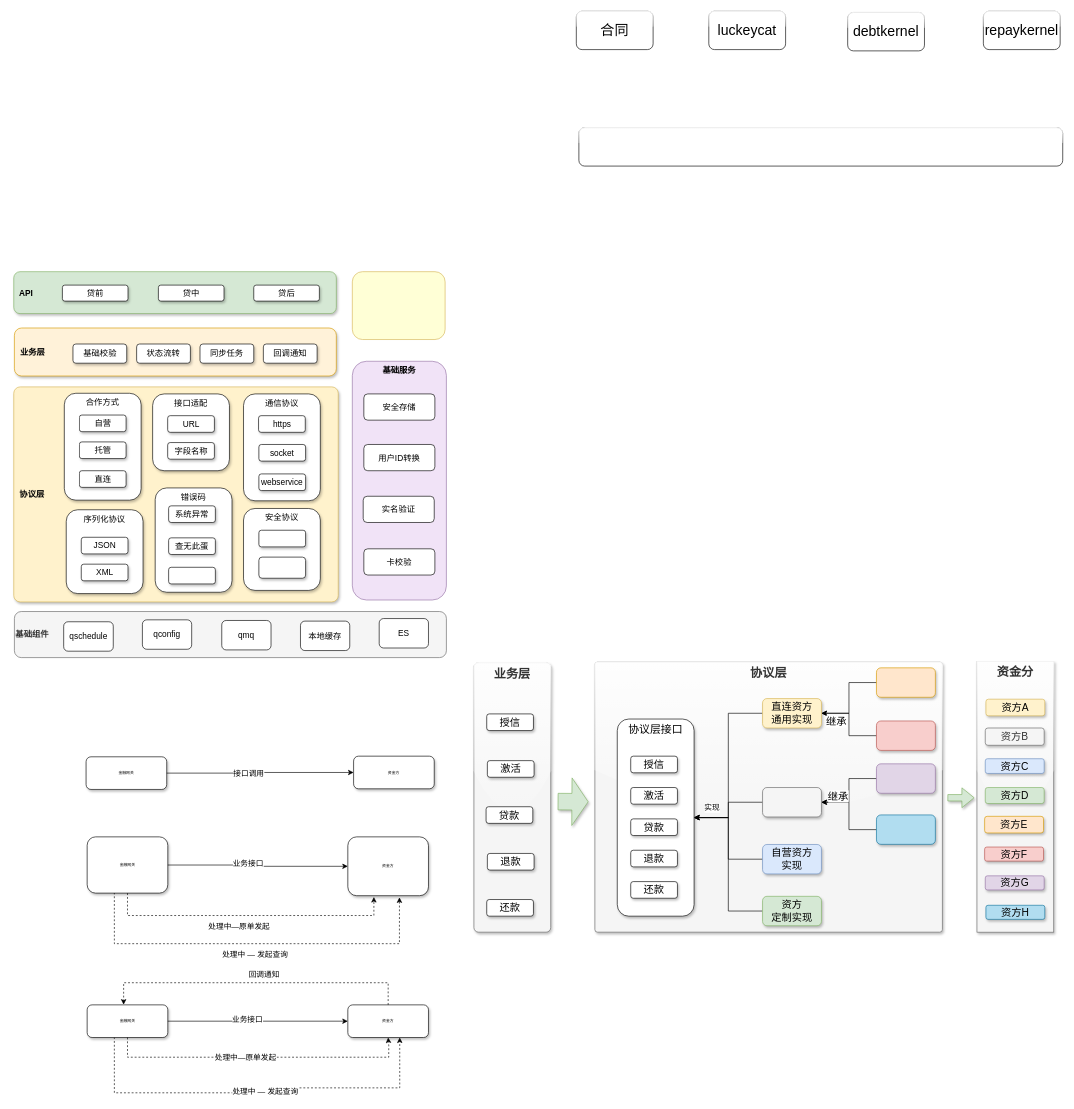
Image size: 1074x1109. Some labels were removed from this diagram. Here are the shapes that lost their labels. From the top down, the centre of each, then its label:
[820,146]: 网关
[398,305]: 管理功能
[282,539]: 加解密算法
[192,576]: 风控拒绝
[282,568]: 签名验签算法
[906,683]: 直连资方E 定制实现
[906,736]: 直连资方F 定制实现
[906,779]: 托管资方G 定制实现
[792,802]: 托管资方 通用实现
[906,830]: 托管资方H 定制实现
